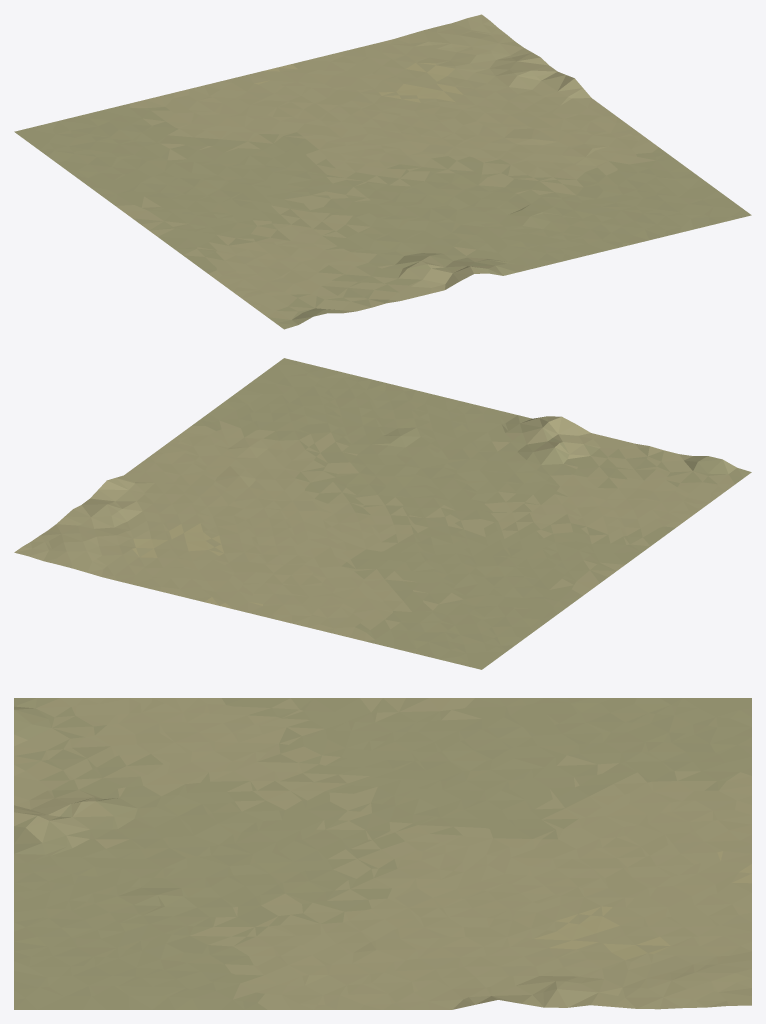
The model's file is Ground_1_2.glb.
3 renders of one model, top to bottom at view 1: azimuth 30°, elevation 25°; view 2: azimuth 150°, elevation 25°; view 3: azimuth 270°, elevation 25°, orthographic. The views are drawn at different scales.
Parts seen in each view (by area): view 1: Ground_1_2; view 2: Ground_1_2; view 3: Ground_1_2.
Part boxes in pixels (x1,y1,x2,y2): Ground_1_2: [14, 14, 751, 329]; Ground_1_2: [14, 358, 751, 669]; Ground_1_2: [14, 698, 751, 1009].
Bounding box in the file's own units: 768 × 14.35 × 768.
